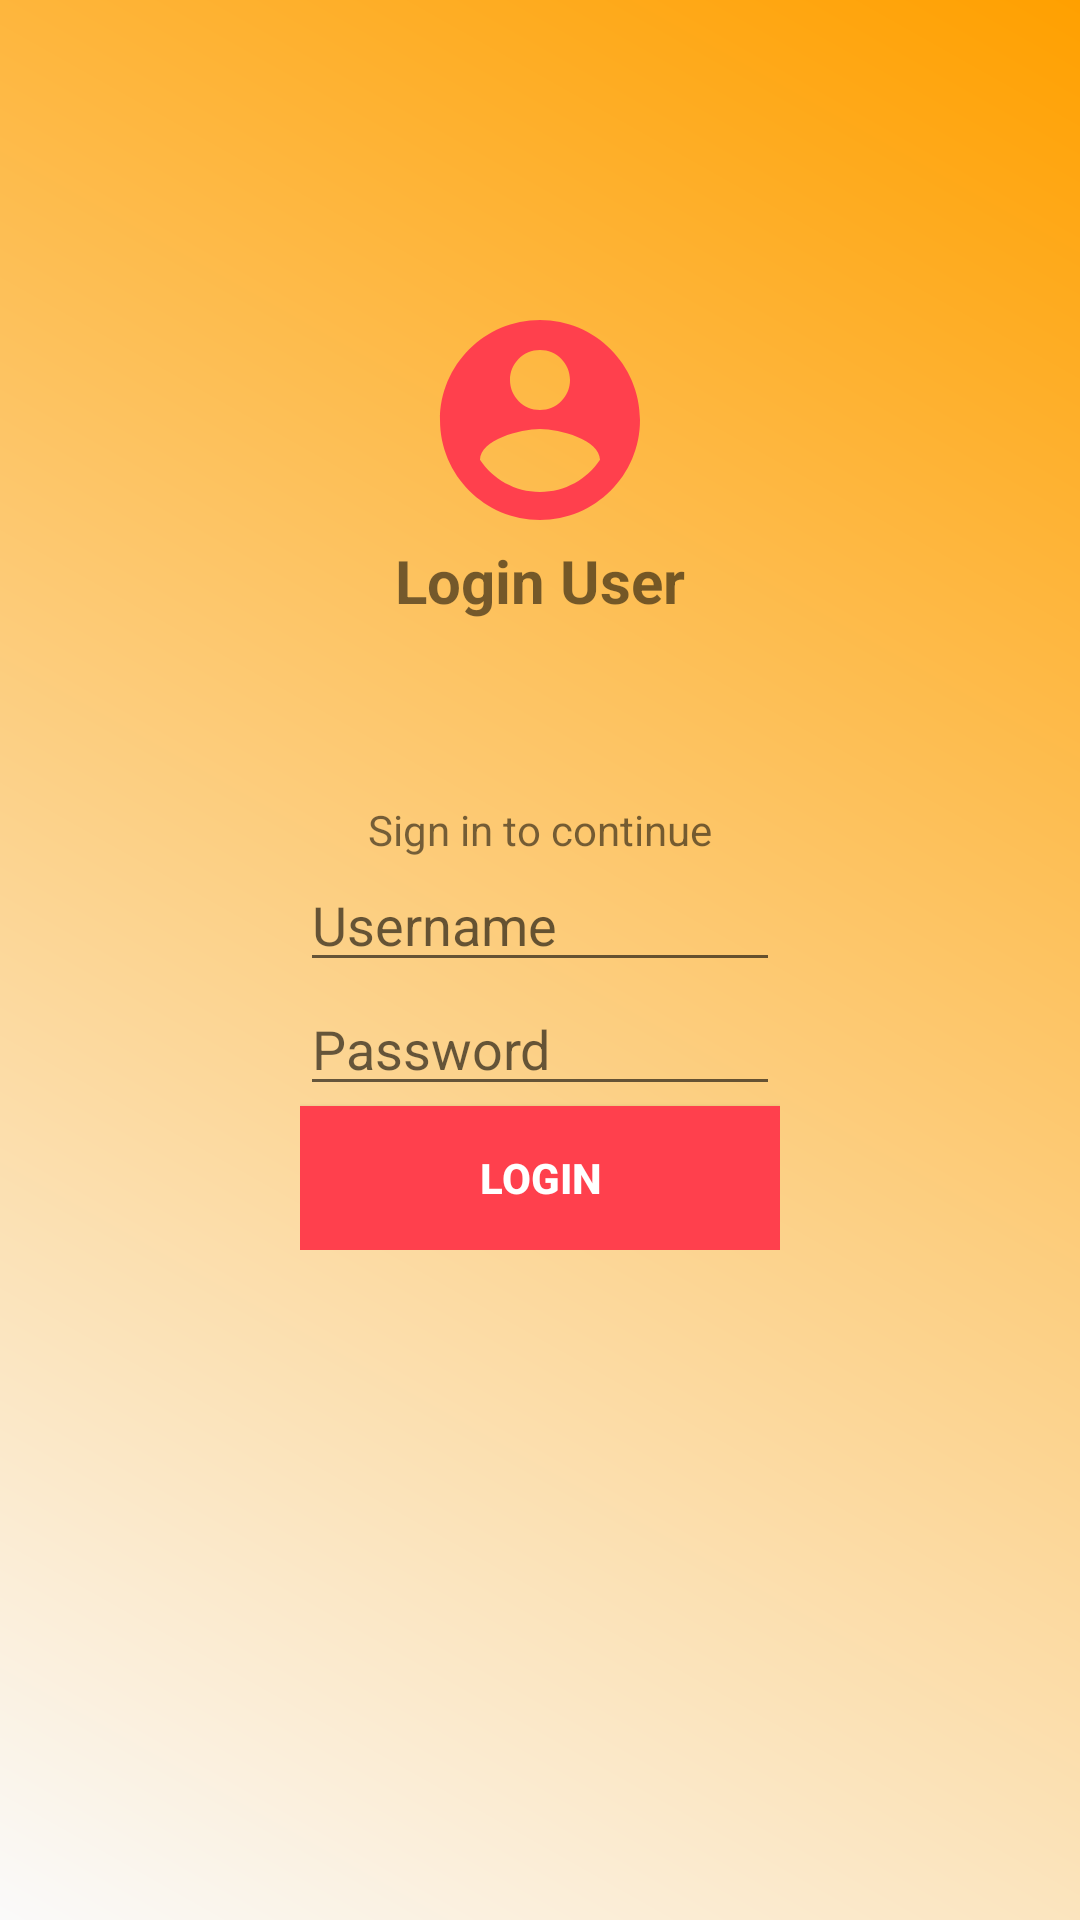

Icons on this 1080 × 1920 Android screen, each with the point to tap as [x,y]:
account circle: [540,420]
